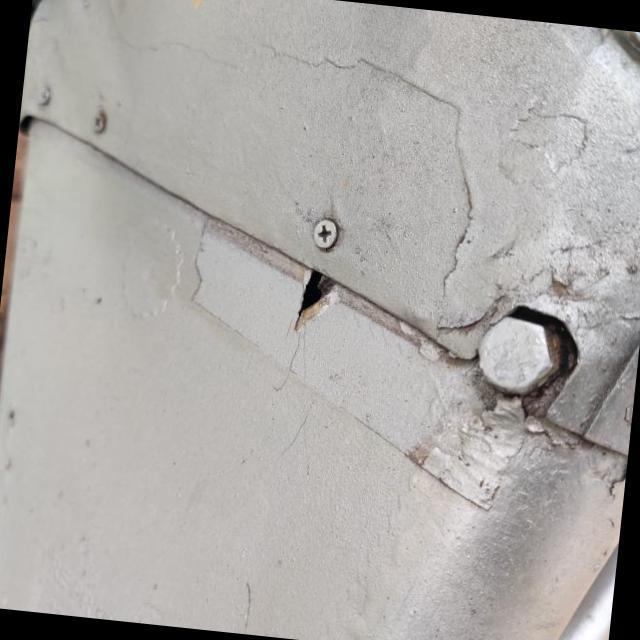Rupture: (260, 248, 368, 364)
